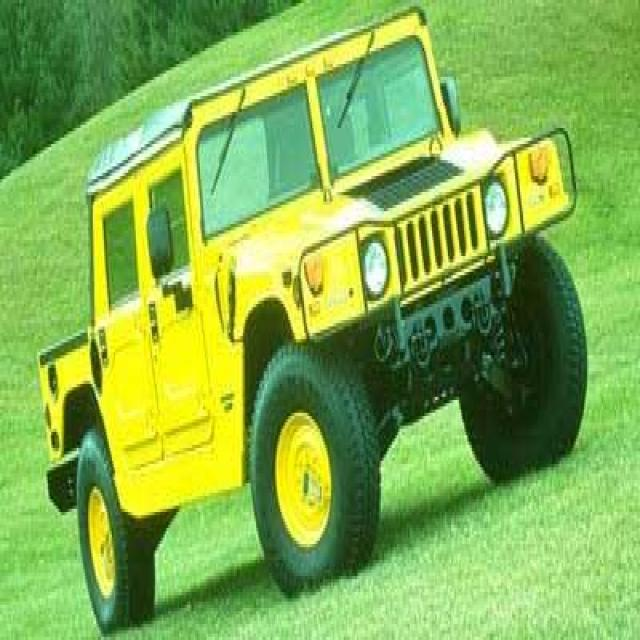Jeep: (27, 43, 586, 584)
